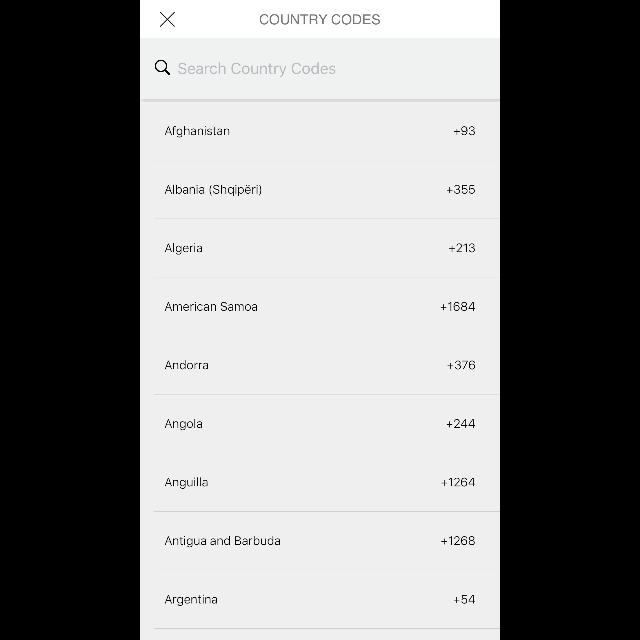icon: (154, 60, 170, 76), (160, 11, 174, 29)
text: (178, 61, 336, 77), (164, 535, 280, 547), (260, 13, 380, 24), (165, 184, 262, 196), (165, 302, 258, 312), (164, 125, 228, 137), (165, 594, 217, 606), (165, 477, 208, 489), (164, 243, 202, 255), (165, 418, 202, 430), (164, 360, 208, 370), (441, 300, 475, 312), (440, 536, 474, 546), (441, 477, 475, 487), (447, 184, 475, 196), (446, 418, 476, 428), (448, 358, 474, 369), (453, 594, 475, 604), (455, 126, 475, 136), (450, 244, 474, 252)
